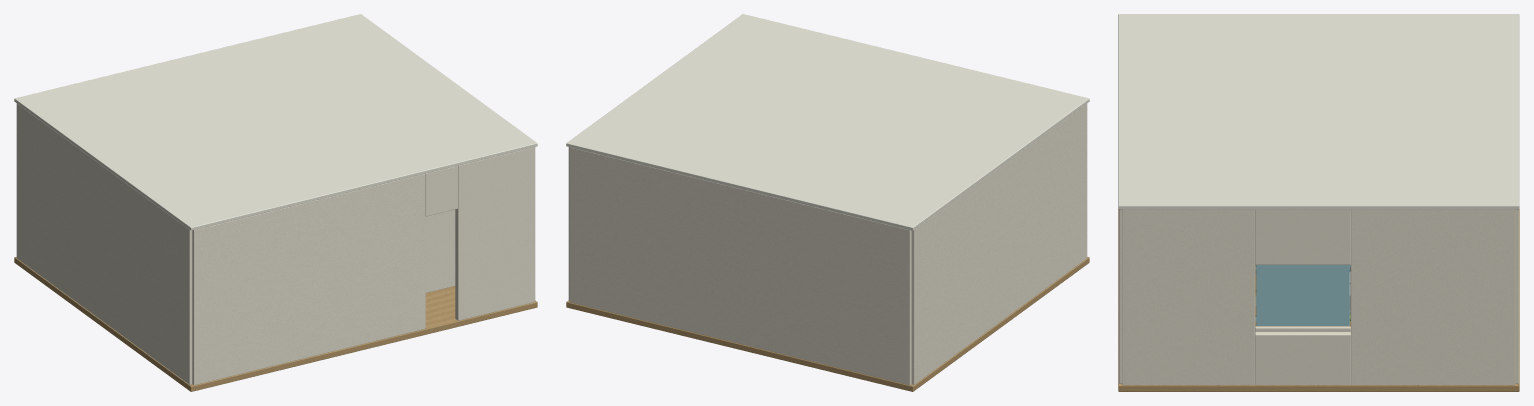
Rendered from room.glb.
3 views of the same model, side by side, from view 1: azimuth 30°, elevation 25°; view 2: azimuth 150°, elevation 25°; view 3: azimuth 270°, elevation 25° (orthographic). The views are drawn at different scales.
Parts seen in each view (by area): view 1: Interior.Roof, Interior.SouthShell.Warm_plaster, Interior.WestShell.Warm_plaster, Interior.Floor.001; view 2: Interior.Roof, Interior.NorthShell.Warm_plaster, Interior.WestShell.Warm_plaster, Interior.Floor.001; view 3: Interior.Roof, Interior.EastShell.Warm_plaster, Interior.WindowGlass, Interior.Floor.001, Interior.NorthShell.Warm_plaster, Interior.SouthShell.Warm_plaster.
Boxes of the visible parts, bbox=[...] form: Interior.Roof: bbox=[14, 14, 537, 230]; Interior.SouthShell.Warm_plaster: bbox=[192, 147, 534, 385]; Interior.WestShell.Warm_plaster: bbox=[16, 103, 192, 384]; Interior.Floor.001: bbox=[14, 257, 537, 391]; Interior.Roof: bbox=[566, 14, 1089, 230]; Interior.NorthShell.Warm_plaster: bbox=[569, 147, 911, 385]; Interior.WestShell.Warm_plaster: bbox=[911, 103, 1087, 384]; Interior.Floor.001: bbox=[566, 257, 1089, 391]; Interior.Roof: bbox=[1118, 14, 1519, 209]; Interior.EastShell.Warm_plaster: bbox=[1122, 209, 1515, 385]; Interior.WindowGlass: bbox=[1256, 265, 1349, 325]; Interior.Floor.001: bbox=[1118, 209, 1519, 391]; Interior.NorthShell.Warm_plaster: bbox=[1515, 209, 1518, 383]; Interior.SouthShell.Warm_plaster: bbox=[1119, 209, 1122, 383].
Size of the model in its own units: 7.7 by 3.49 by 6.8.
20 materials, 6 textured.
